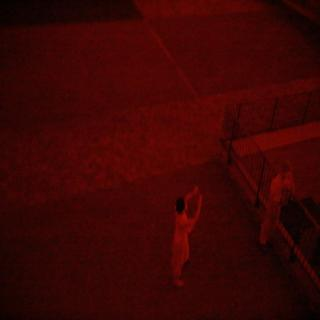person: (164, 180, 209, 293), (260, 158, 296, 257)
